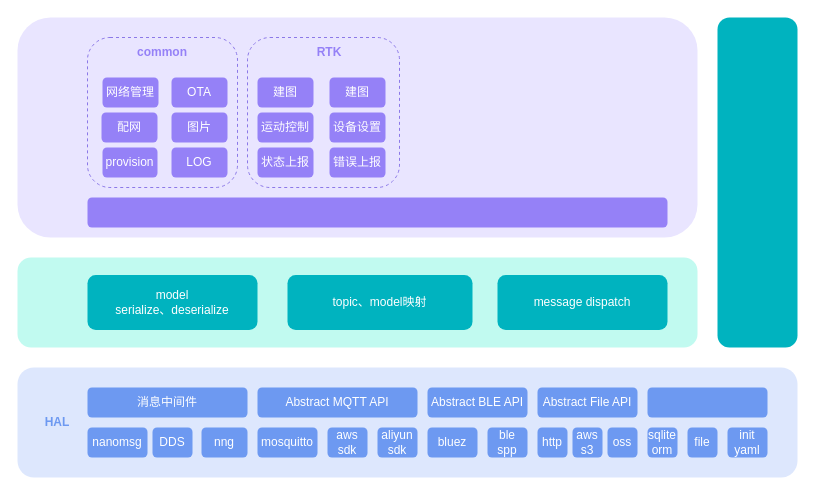
Some shapes in this 814 by 494 pixel diagram are drawn without their labels. Here are the shapes that lost their labels. From the top down, the centre of each, then its label:
At [757,182]: "model".
At [377,212]: "user interface".
At [707,402]: "Persistent Layer".
